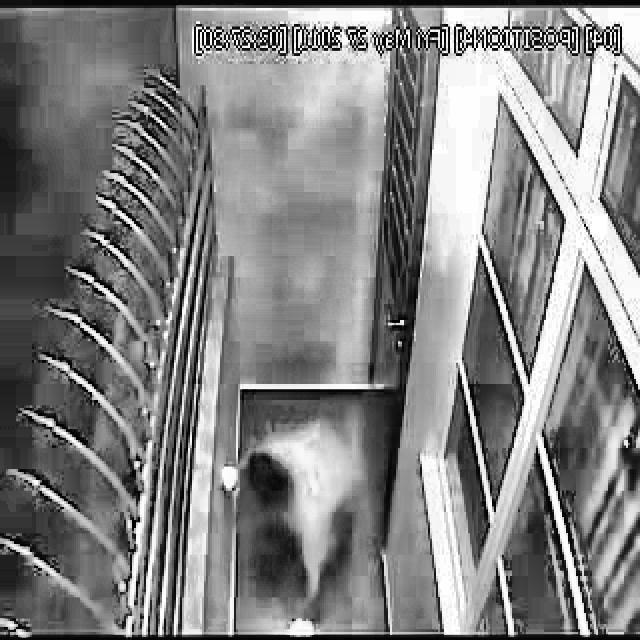burglary: (220, 419, 365, 635)
